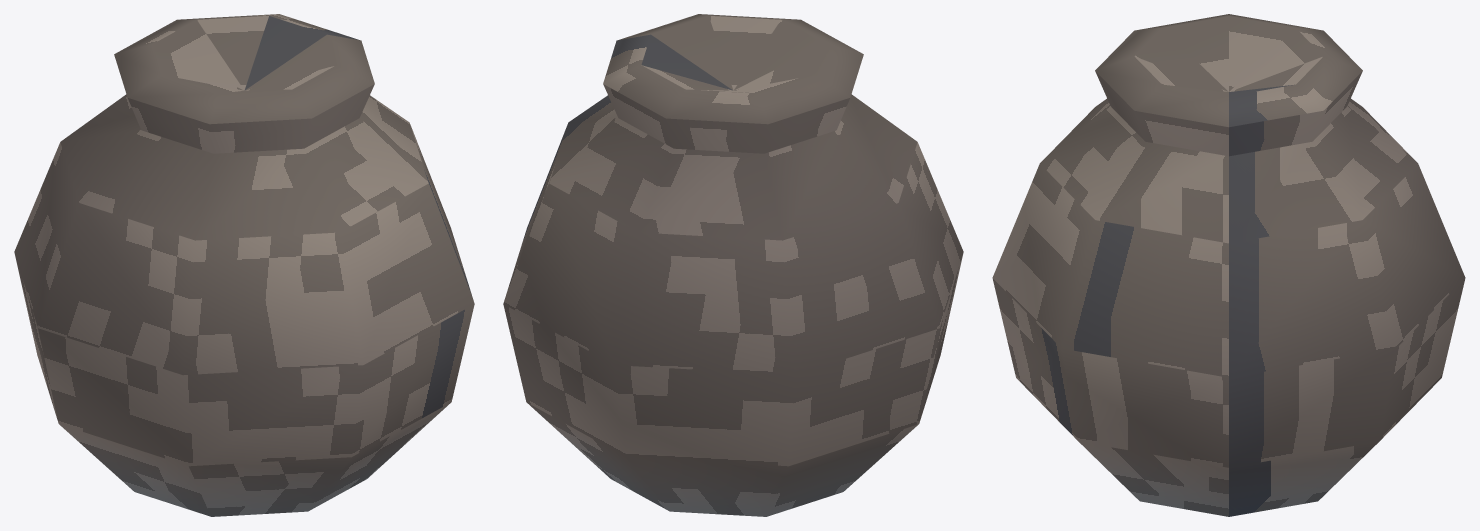
The model's file is dprop.breakable.glb.
3 views of the same model, side by side, from view 1: azimuth 30°, elevation 25°; view 2: azimuth 150°, elevation 25°; view 3: azimuth 270°, elevation 25° (orthographic).
Parts seen in each view (by area): view 1: kit_pot; view 2: kit_pot; view 3: kit_pot.
Boxes of the visible parts, <box> form: kit_pot: <box>14,14,474,516</box>; kit_pot: <box>503,14,963,516</box>; kit_pot: <box>992,14,1465,516</box>.
Size of the model in its own units: 0.6 by 0.57 by 0.6.
Materials: 1 (1 with a texture image).
